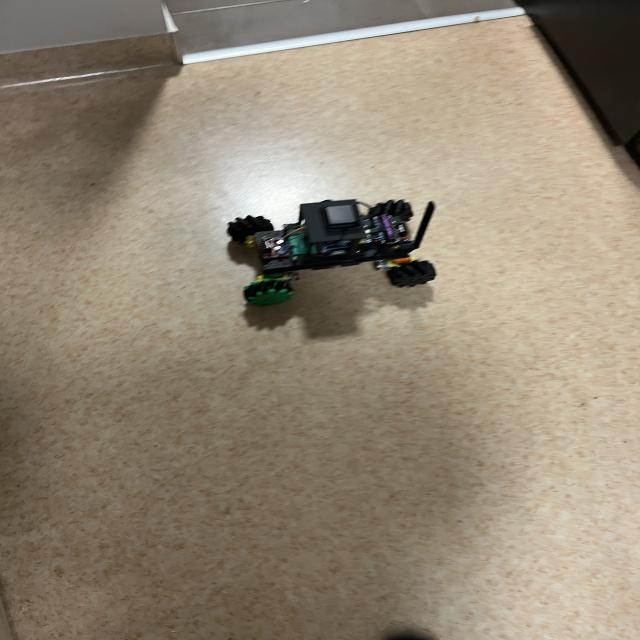robot: (227, 199, 436, 305)
